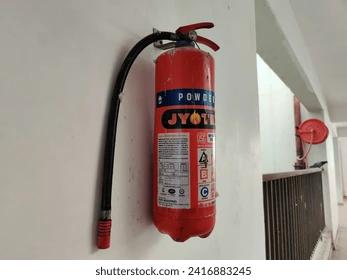wall-mounted: (90, 12, 238, 252)
